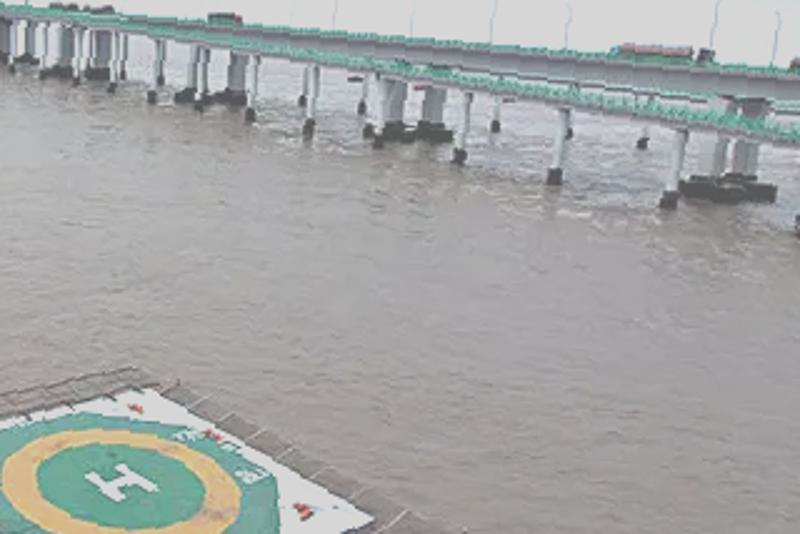Apron: (28, 431, 218, 534)
